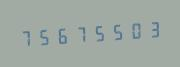five: (35, 23, 52, 49), (107, 18, 124, 44), (89, 20, 106, 45)
seven: (71, 21, 88, 47), (17, 25, 34, 50)
six: (53, 22, 70, 48)
three: (143, 16, 160, 42)
zero: (125, 17, 142, 43)
